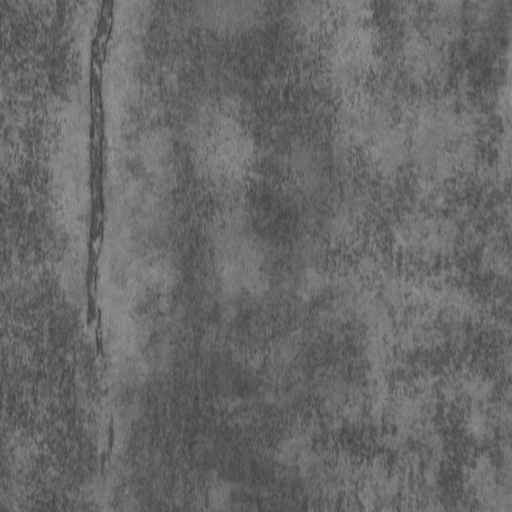zongxiangliewen: (84, 1, 115, 359)
